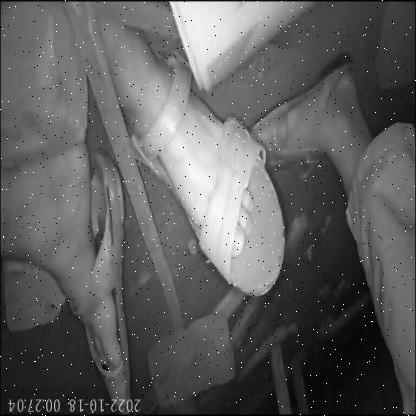leg: (100, 22, 293, 304), (0, 136, 142, 416), (253, 54, 372, 196)
